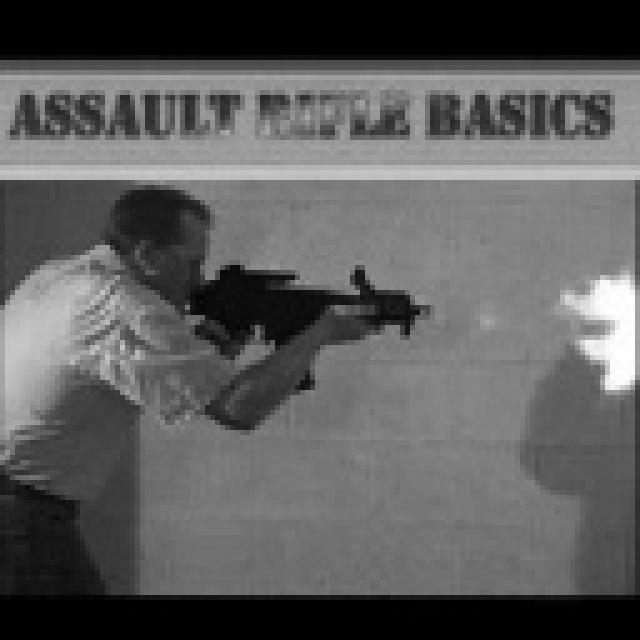Rifle: (178, 0, 446, 396), (397, 41, 402, 98)
